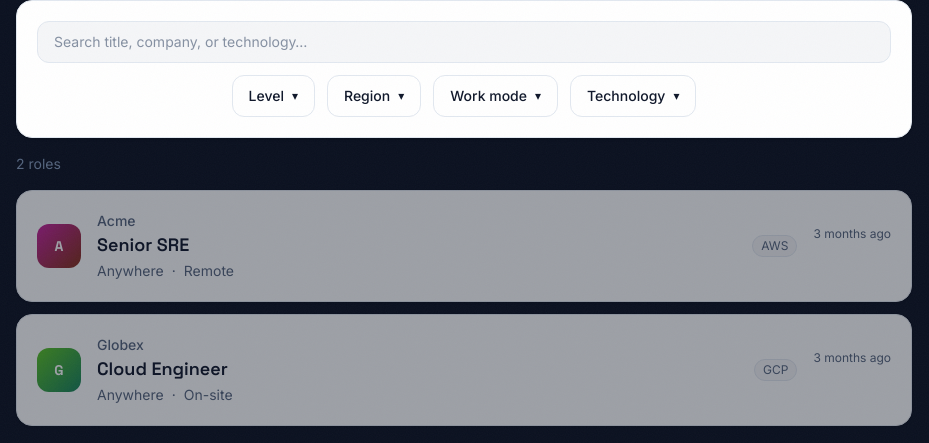
Test: JobBoard › shows the no-matches state and clears filters
Type "zzz" into the search field named "Search jobs" at (464, 42), box [37, 21, 891, 63]
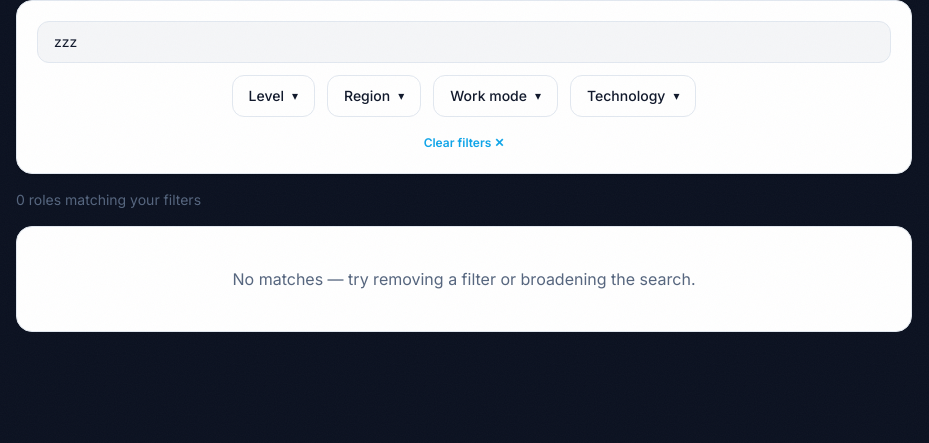
Now the text "No matches — try removing a filter or broadening the search." is shown, box [16, 226, 912, 332]
Click the button "Clear filters ✕" at (464, 143), box [424, 135, 504, 151]
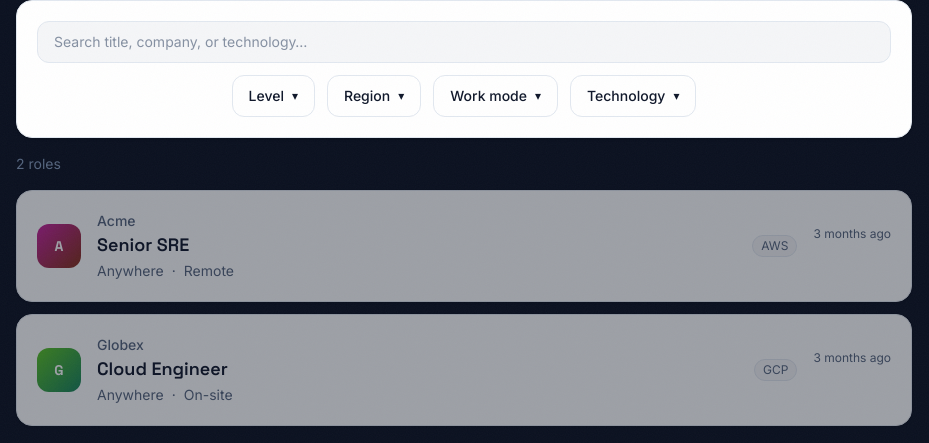
Now the heading "Senior SRE" is shown, box [97, 231, 189, 259]
